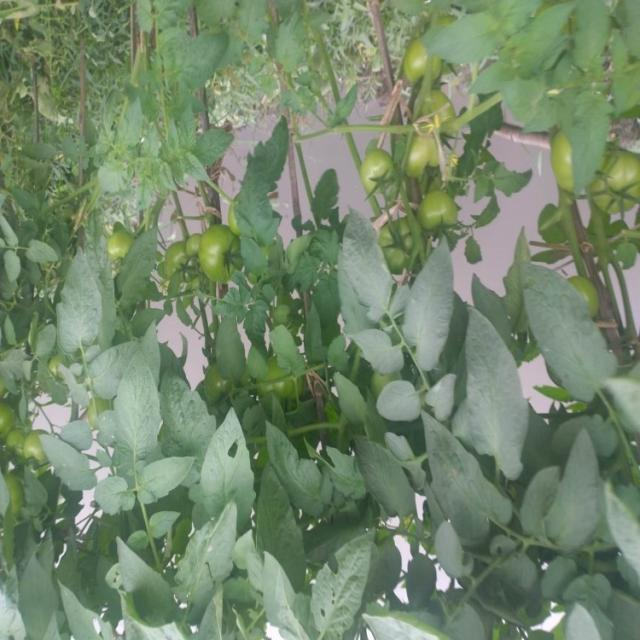tomato: (189, 217, 258, 283), (588, 140, 640, 225), (411, 195, 474, 237), (542, 126, 579, 194), (376, 217, 419, 274), (394, 43, 448, 84), (165, 234, 215, 276), (402, 130, 446, 177), (356, 147, 403, 189), (569, 268, 612, 312), (259, 369, 313, 404), (199, 360, 244, 401), (413, 85, 461, 123), (98, 217, 136, 265), (3, 406, 30, 465), (23, 423, 54, 470)
